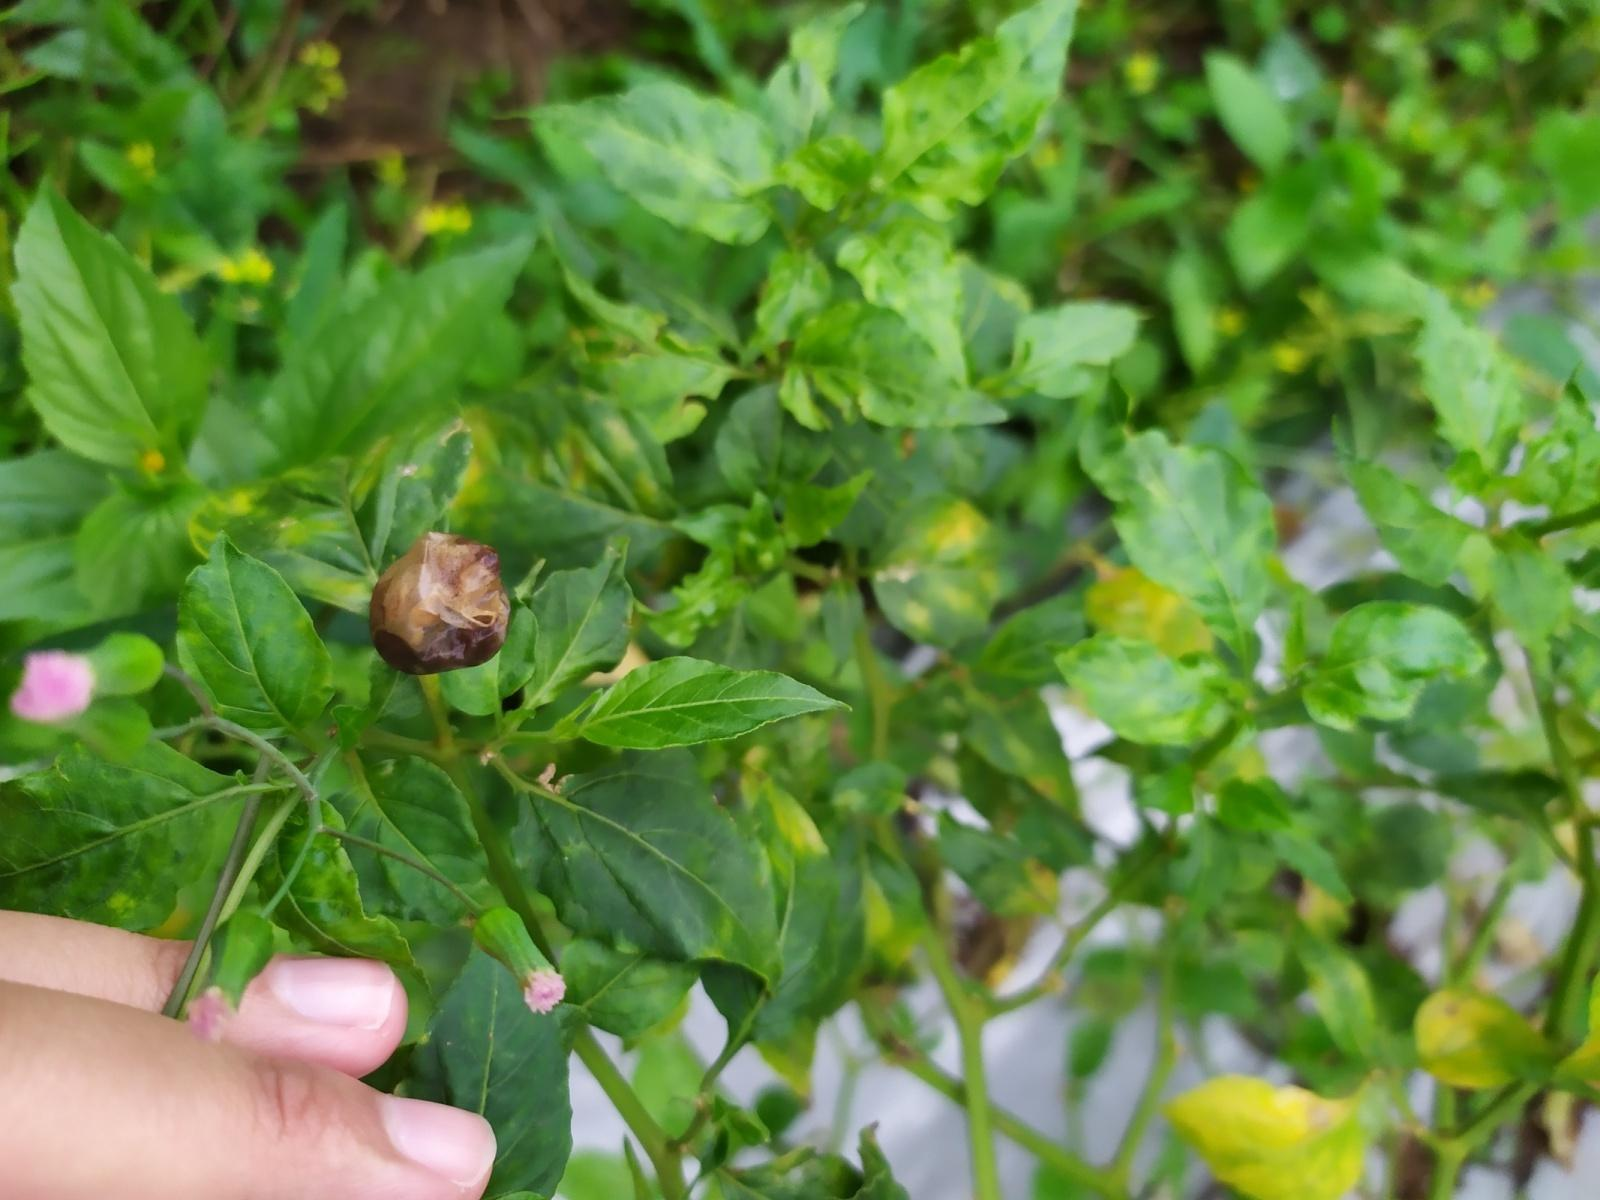lalat_buah: (366, 528, 514, 674)
